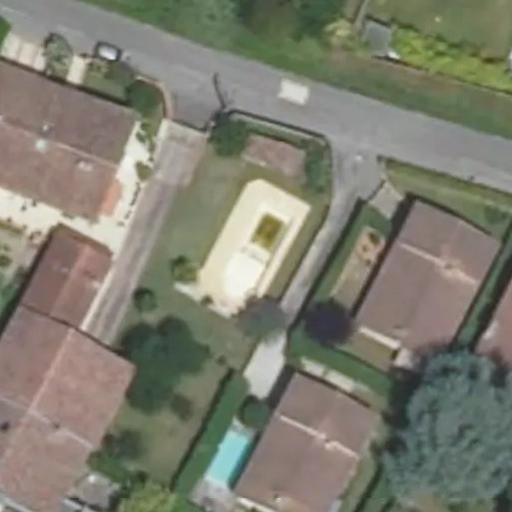pool: (224, 208, 288, 297), (207, 428, 252, 484)
